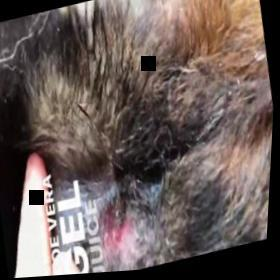skin_lesions: (93, 201, 153, 266)
